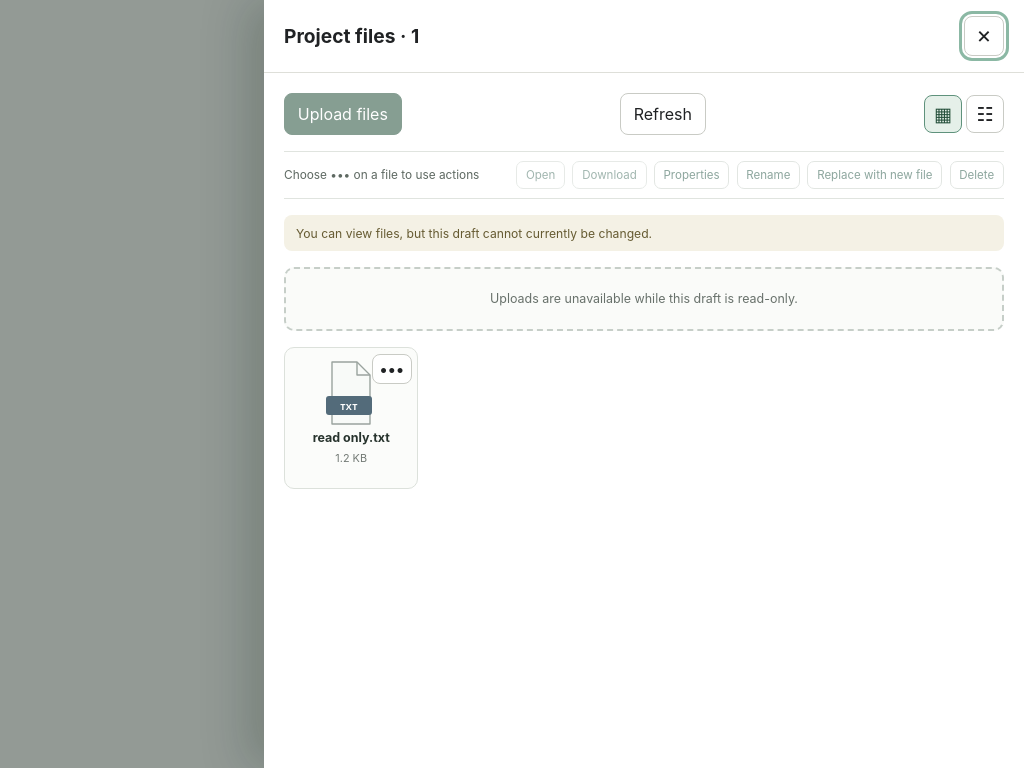
Test: ProjectFilesPanel › shows verified property references to a read-only viewer and retries an error
The image size is (1024, 768).
Step 1. Click the button "•••" → (392, 369), box [372, 354, 412, 384]
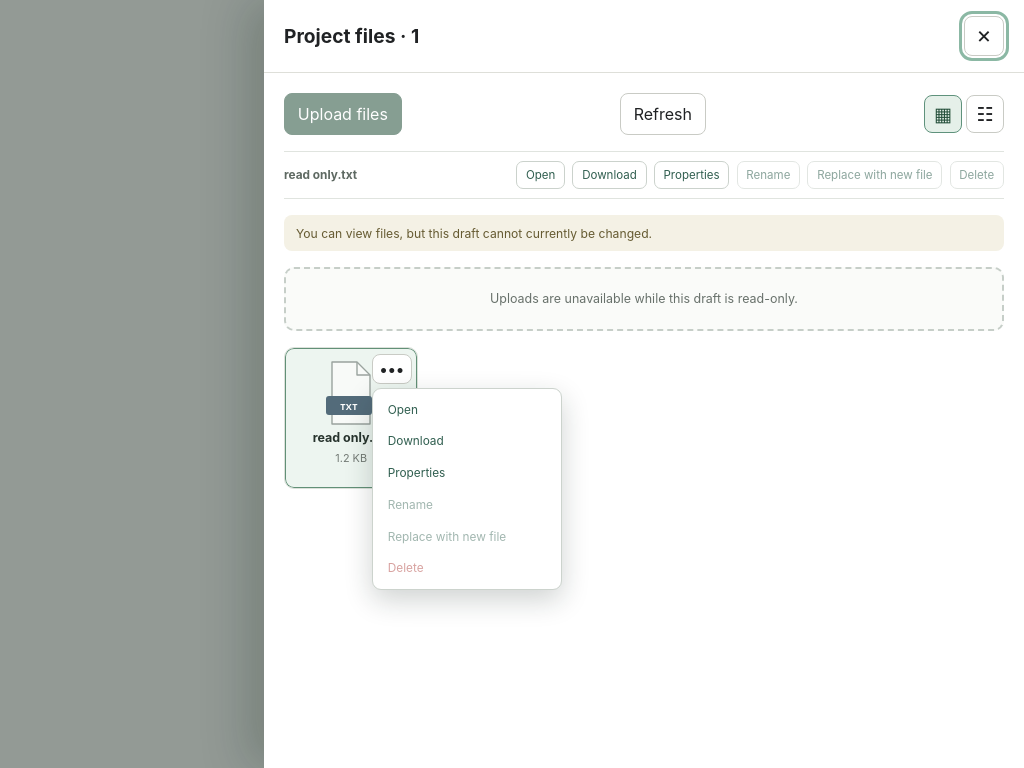
Step 2. Click the 1st button "Properties" → (692, 175), box [654, 161, 729, 189]
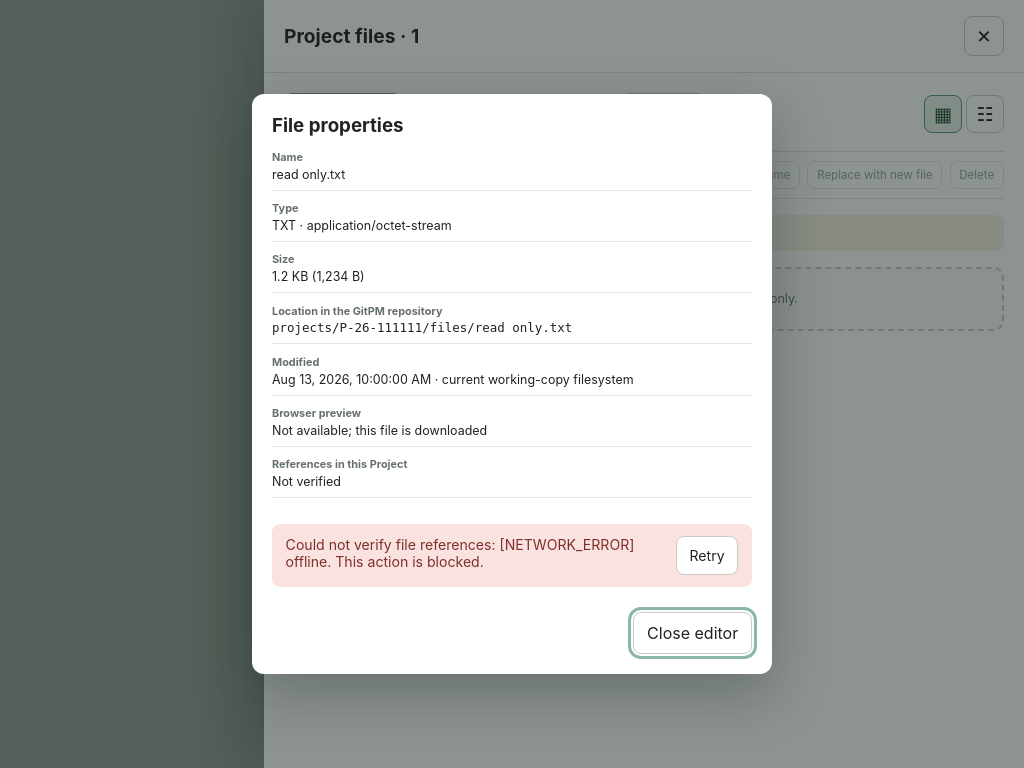
Expected: the message shows "action is blocked", [286, 536, 638, 570]
Expected: the dialog "File properties" shows "Not verified", [272, 474, 341, 489]
Step 3. Click the button "Retry" → (707, 555), box [676, 536, 738, 575]
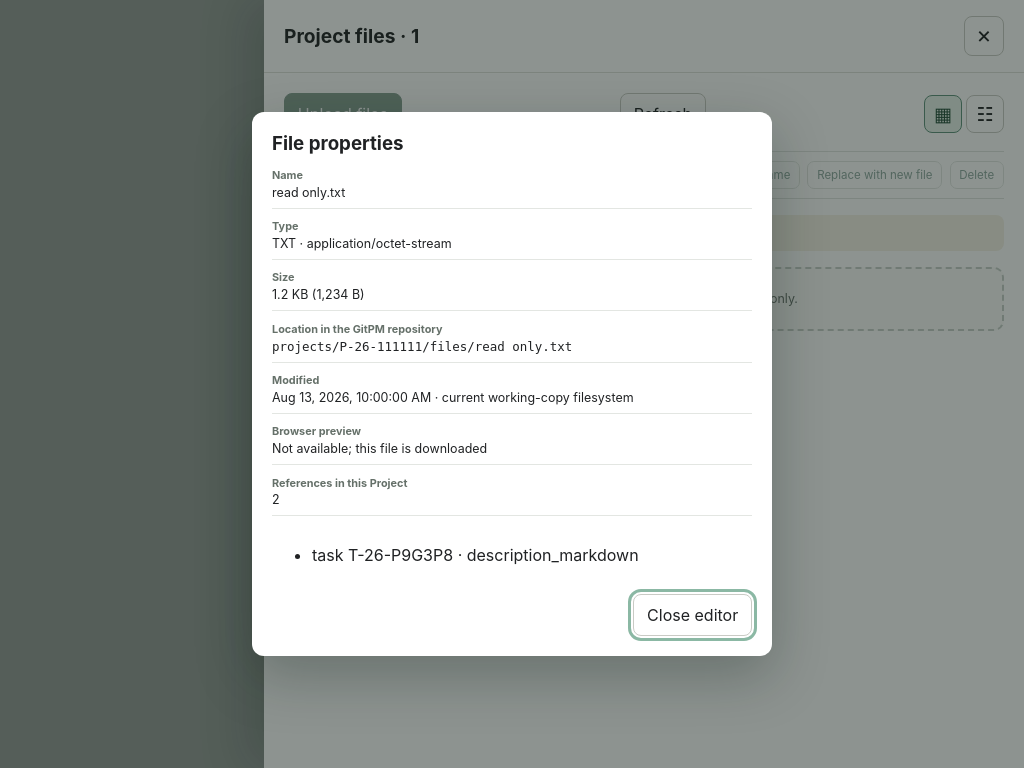
Expected: the dialog "File properties" shows "T-26-P9G3P8", [348, 545, 453, 565]
